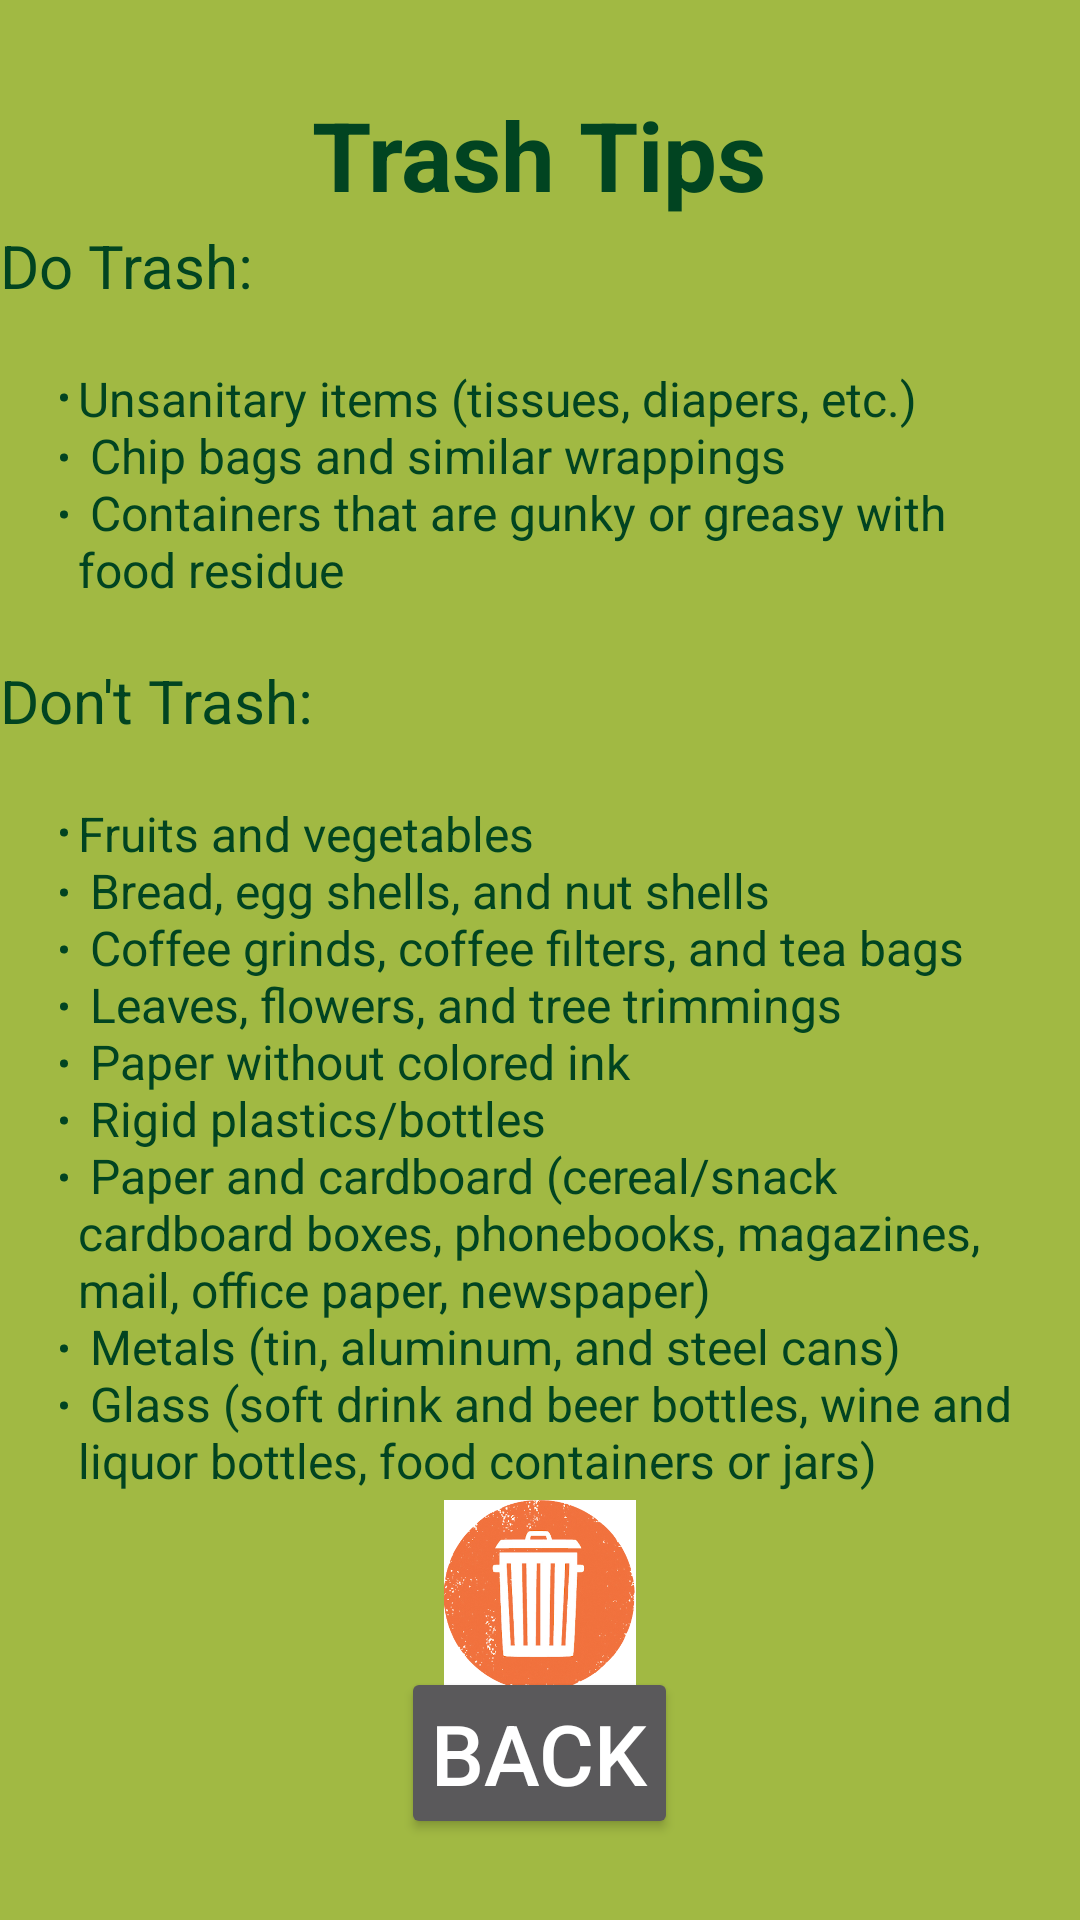

Where to tap for icons on this 1080 x 1920 app screen, as point (x, y):
trash: point (540, 1596)
